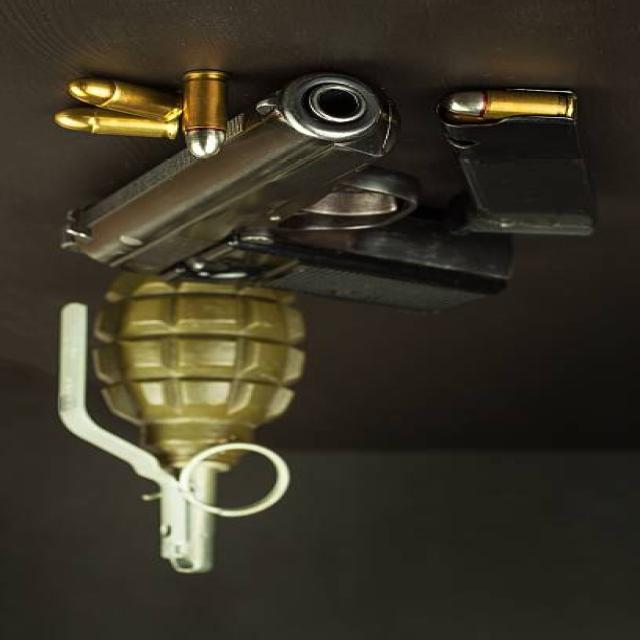grenade: (45, 283, 315, 585)
